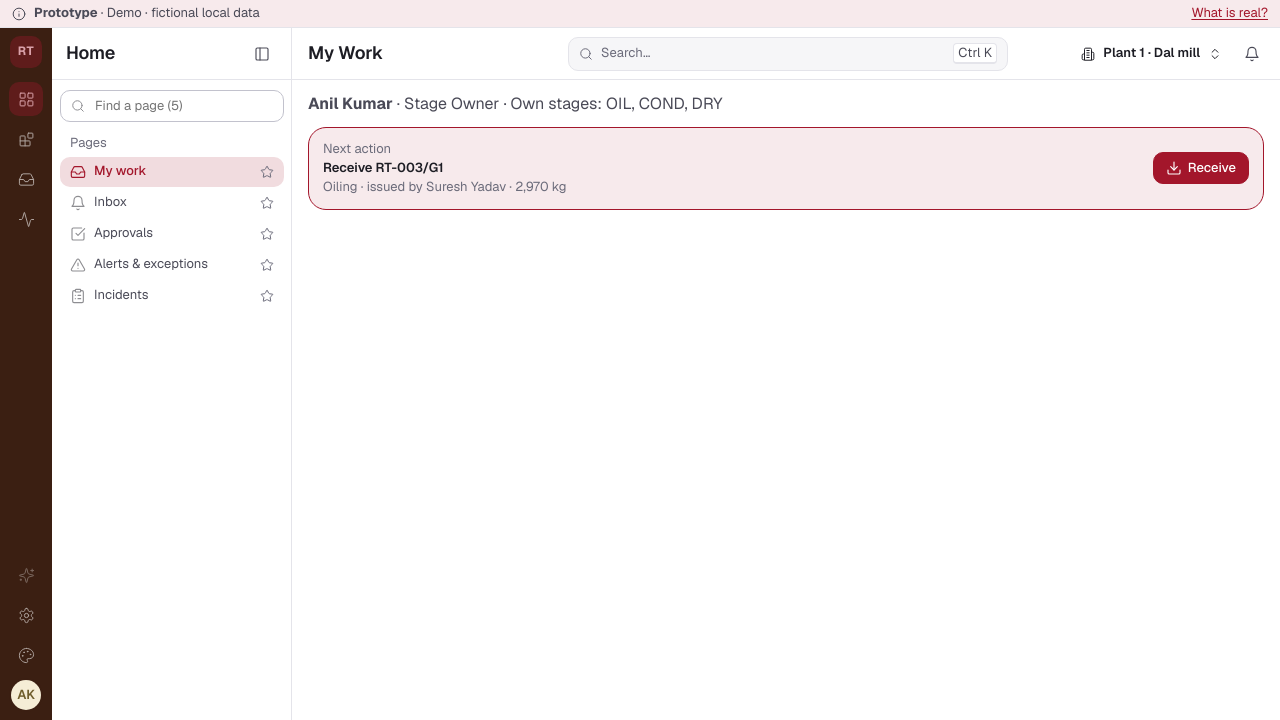
Test case: B5 — manual receipt by a stage worker › shows issued / received / outstanding / receive-now / remaining, keeps input on error, posts once
Later steps or results of the test are not shown.
Click the button "Receive" at (1201, 168), box top-left (1153, 152), bottom-right (1249, 184)
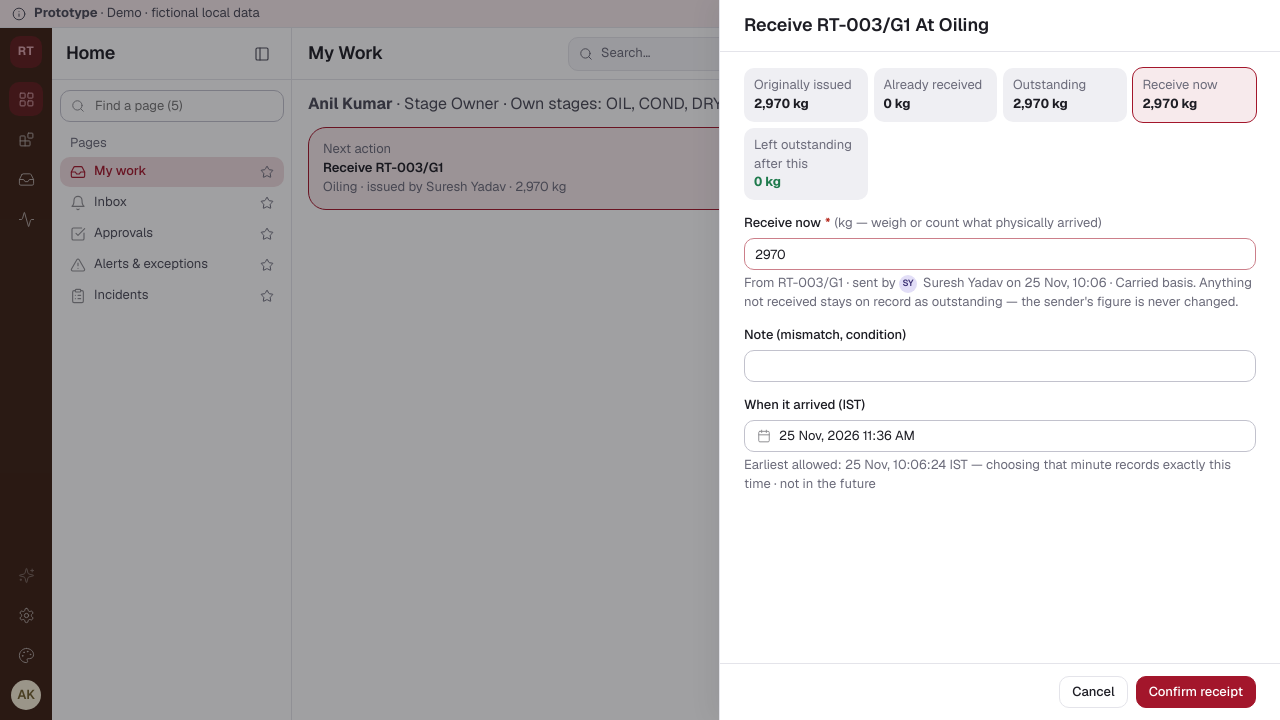
Expected: the dialog shows "Originally issued", top-left (754, 76), bottom-right (852, 93)
Expected: the dialog shows "Already received", top-left (884, 76), bottom-right (982, 93)
Expected: the dialog shows "Outstanding", top-left (1013, 76), bottom-right (1086, 93)
# over-receipt is refused and the entered value is kept
Replace the text in the number field labelled "Receive now * (kg — weigh or count what physically arrived)" with "3000" at (1000, 254), box top-left (744, 238), bottom-right (1256, 270)
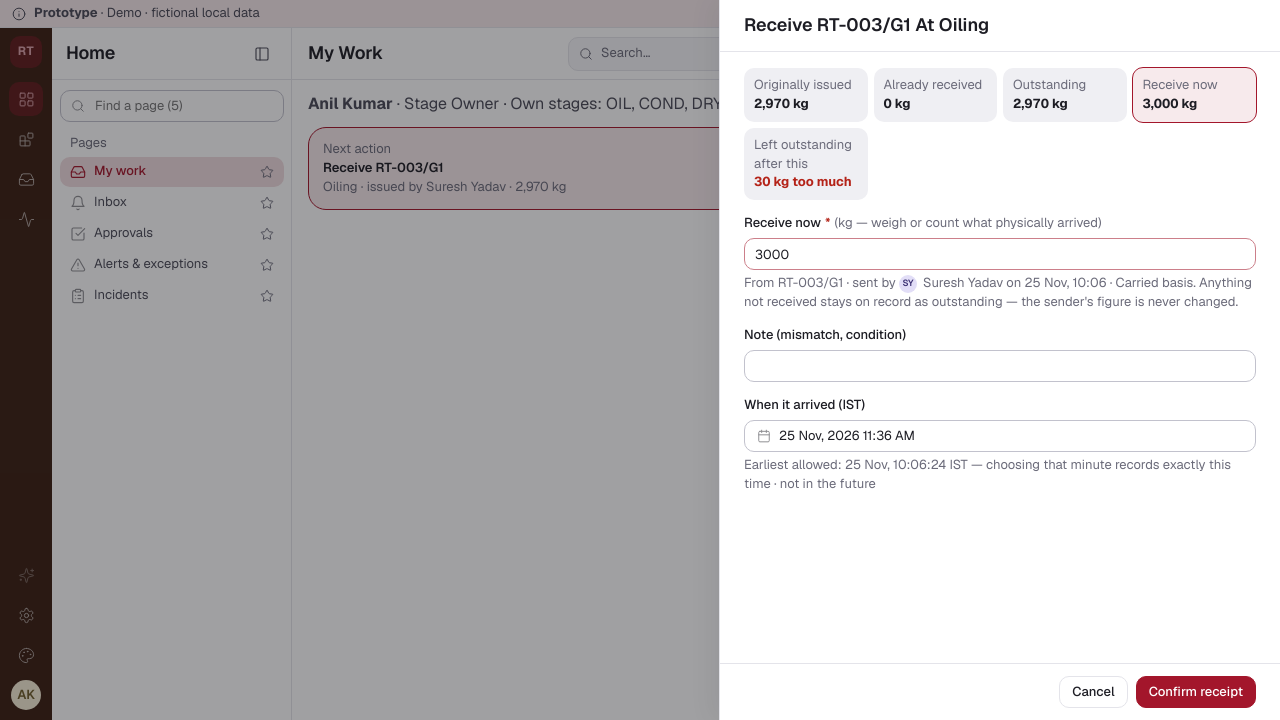
Expected: the dialog shows "30 kg too much", top-left (754, 173), bottom-right (852, 190)
Click the button "Confirm receipt" at (1196, 692), box top-left (1136, 676), bottom-right (1256, 708)
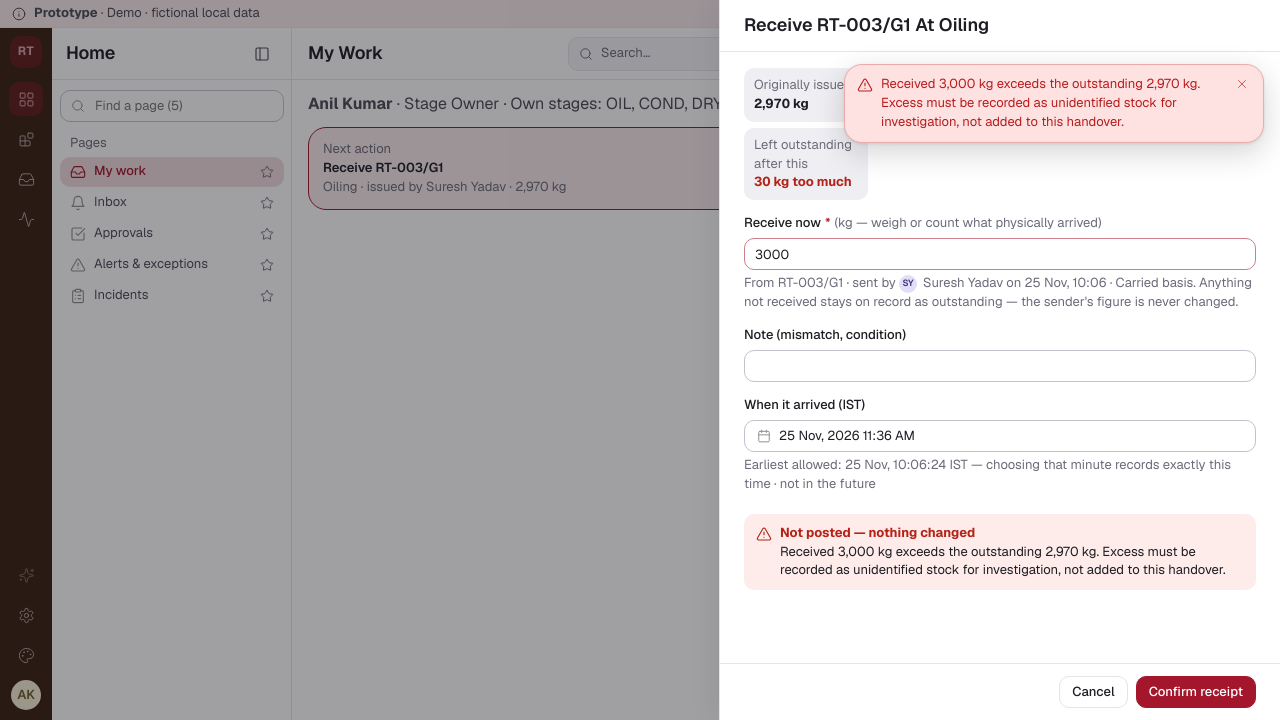
Expected: the dialog shows "Not posted — nothing changed", top-left (780, 524), bottom-right (975, 541)
# partial receipt: 2,950 now, 20 kg stays outstanding
Replace the text in the number field labelled "Receive now * (kg — weigh or count what physically arrived)" with "2950" at (1000, 254), box top-left (744, 238), bottom-right (1256, 270)
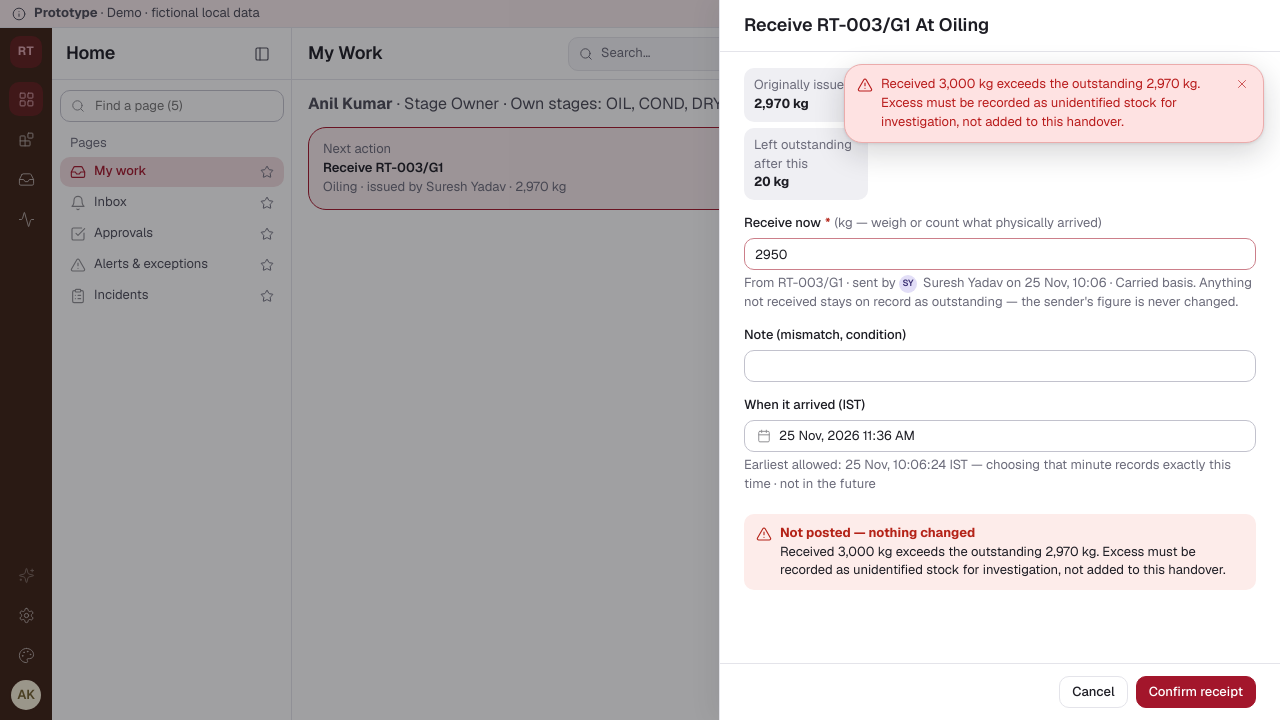
Expected: the dialog shows "20 kg", top-left (754, 173), bottom-right (789, 190)
